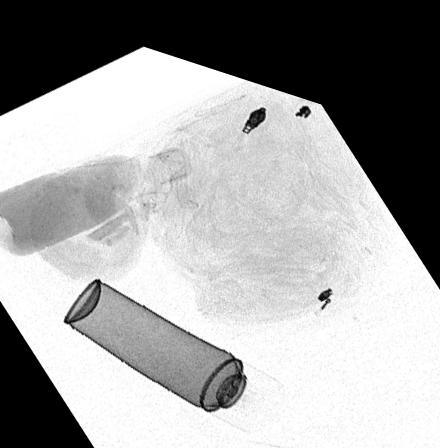Sprayer: (60, 271, 283, 417)
